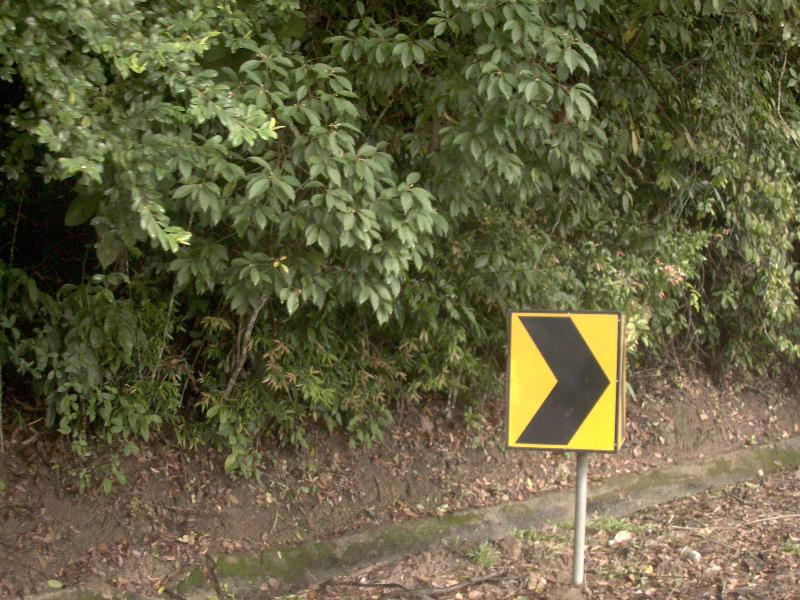traffic_sign: (496, 298, 634, 469)
